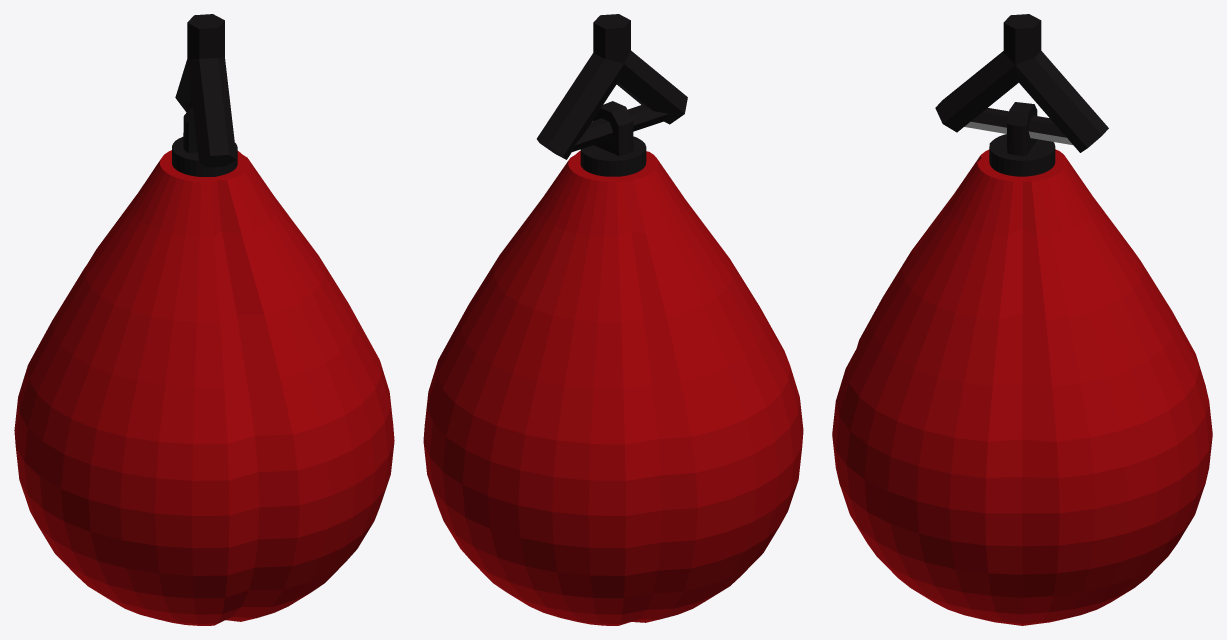
The model's file is speedbag.obj.
3 views of the same model, side by side, from view 1: azimuth 30°, elevation 25°; view 2: azimuth 150°, elevation 25°; view 3: azimuth 270°, elevation 25° (orthographic).
Parts seen in each view (by area): view 1: Sphere; view 2: Sphere; view 3: Sphere.
Part boxes in pixels (x1=…): Sphere: x1=14, y1=14, x2=394, y2=625; Sphere: x1=423, y1=14, x2=803, y2=625; Sphere: x1=832, y1=14, x2=1212, y2=625.
Size of the model in its own units: 1.98 by 3.4 by 2.
